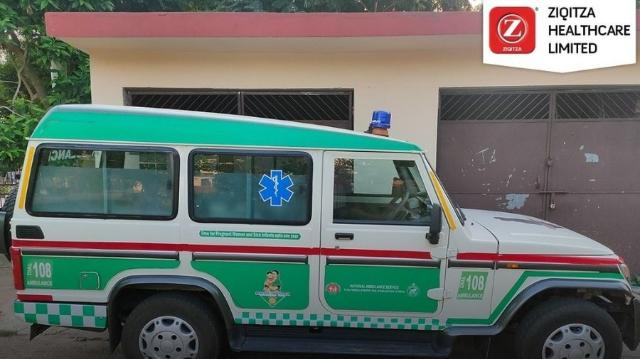ambulance: (4, 89, 639, 359)
